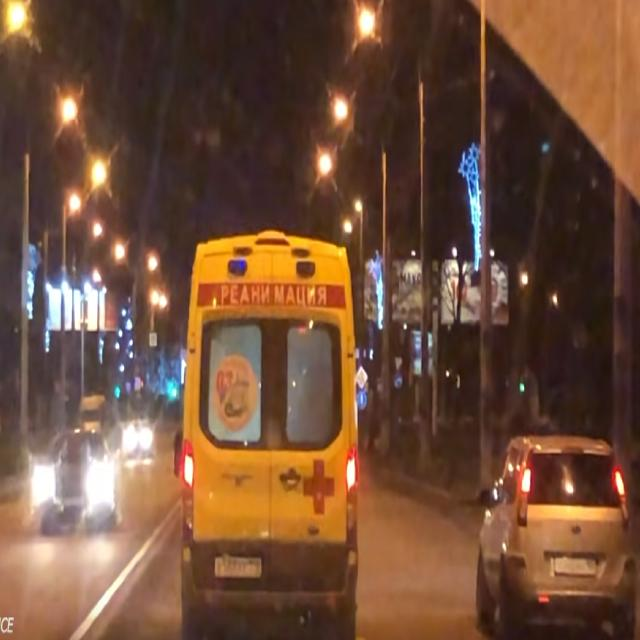intensive care unit: (175, 229, 360, 640)
non emergency car: (479, 434, 635, 640), (35, 426, 119, 534), (120, 418, 158, 463)
